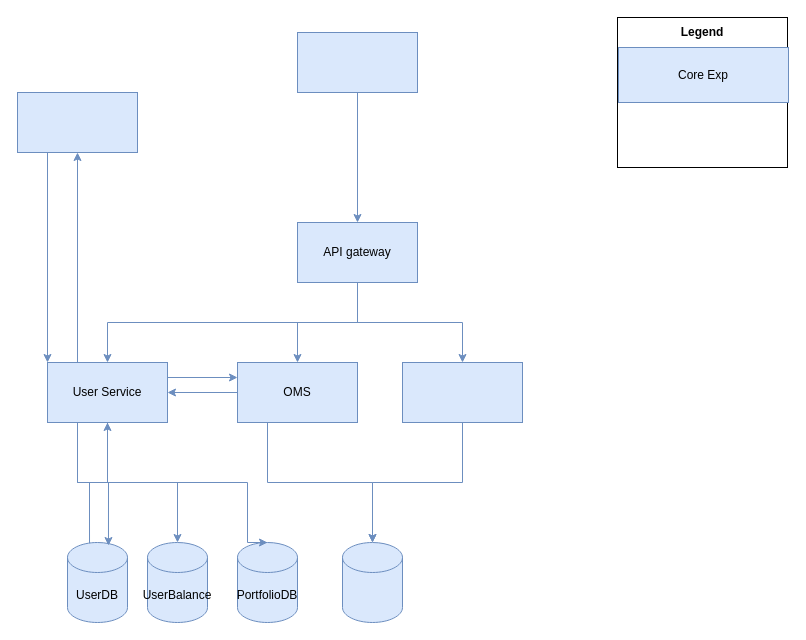
The diagram is 806 pixels wide and 640 high, and some of its shapes have lost their labels. The centre of each missing label's shape, as x and y in pixels:
Auth Provider: pixel 77 122
Frontend Client (Desktop/Mobile): pixel 357 62
Orders: pixel 372 582
Trading Service: pixel 462 392
